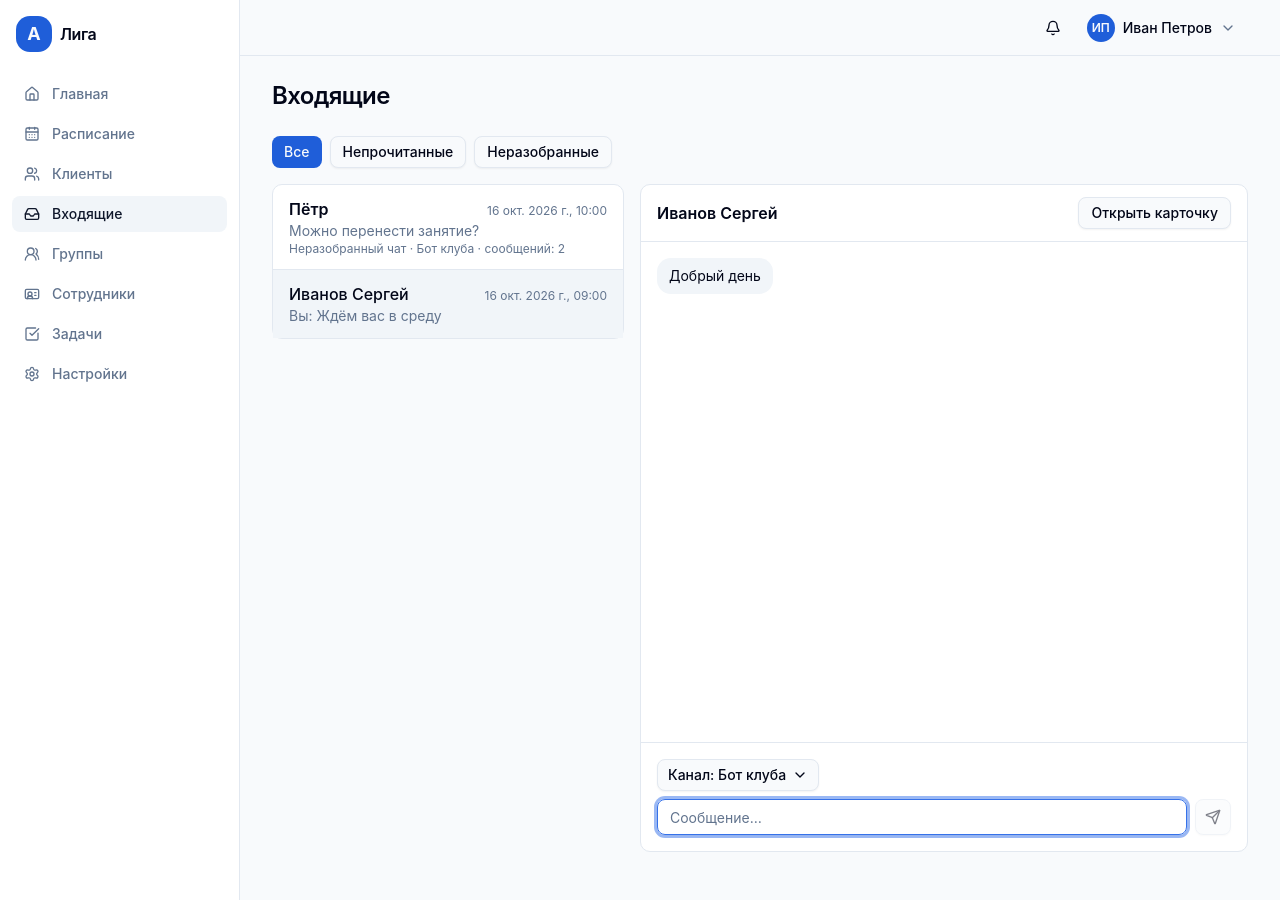
it: входящие › ответ клиенту уходит со страницы и попадает в ленту
Check: the text "Добрый день" is shown, box [669, 266, 761, 286]
Type "Ждём в пятницу" into the field with placeholder "Сообщение…" at (922, 817), box [657, 799, 1187, 835]
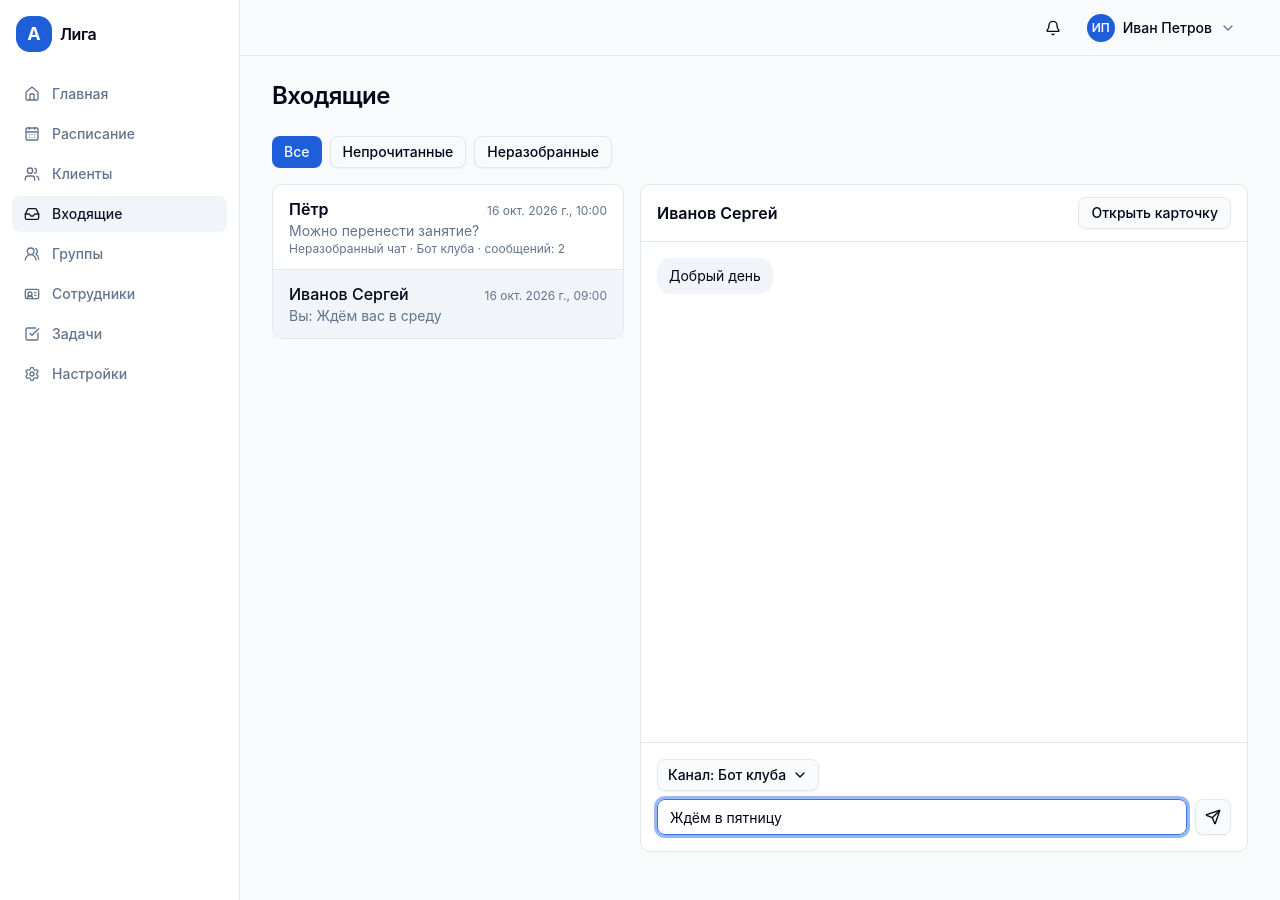
Click the button named "Отправить" at (1213, 817), box [1195, 799, 1231, 835]
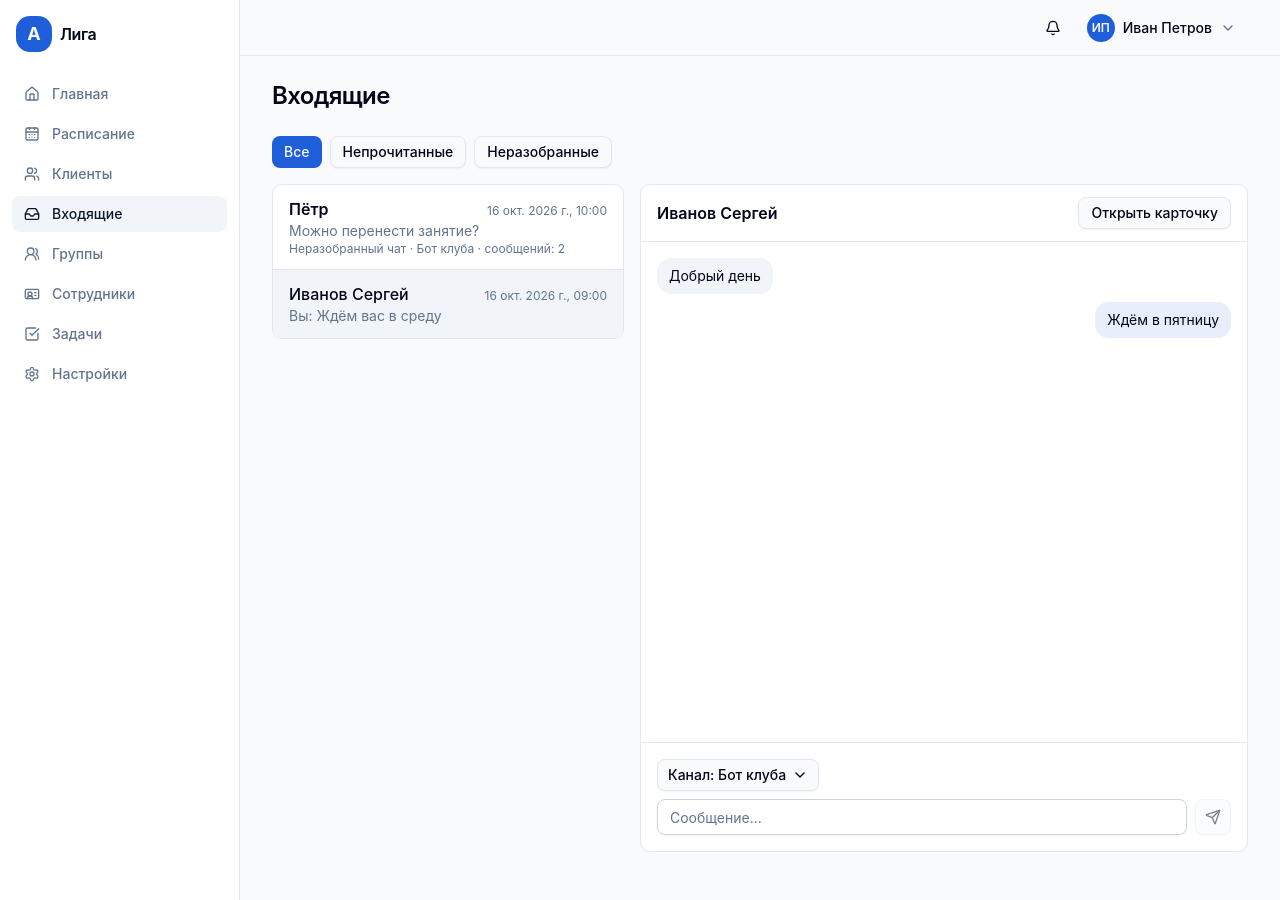
Check: the text "Ждём в пятницу" is shown, box [1107, 310, 1219, 330]
